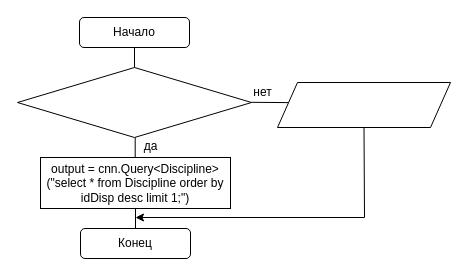
This 468x276 diagram has some shape labels left out. The shapes that lost their labels are listed below. From the top down, each one's centre as x and y in pixels, then its label:
the point at 134,102: cnn = new SQLConnection()
the point at 363,105: Вывести сообщение об ошибке
